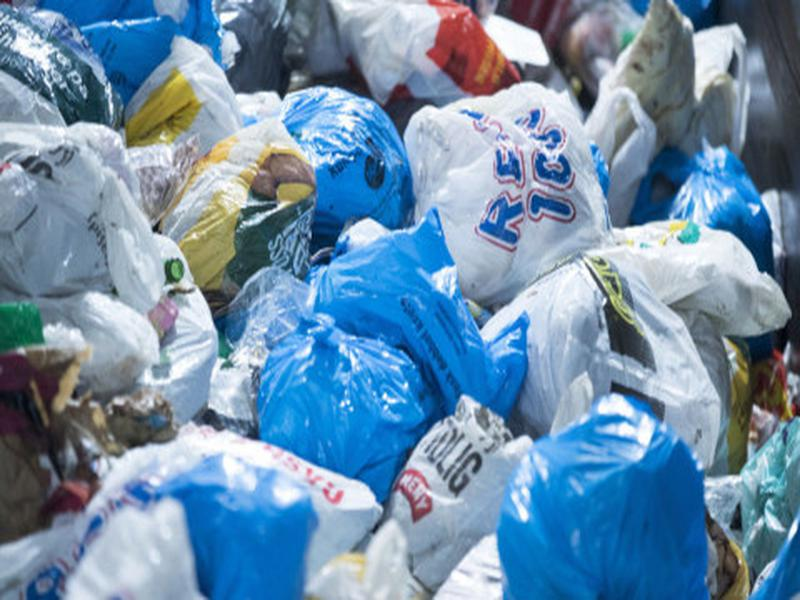plastic: (477, 219, 795, 468), (1, 417, 387, 600), (398, 77, 615, 301), (490, 391, 716, 600), (322, 225, 534, 422), (252, 298, 445, 503), (154, 115, 324, 294), (384, 394, 536, 594), (1, 117, 146, 297), (327, 2, 528, 103), (111, 34, 248, 159), (666, 136, 787, 271)
